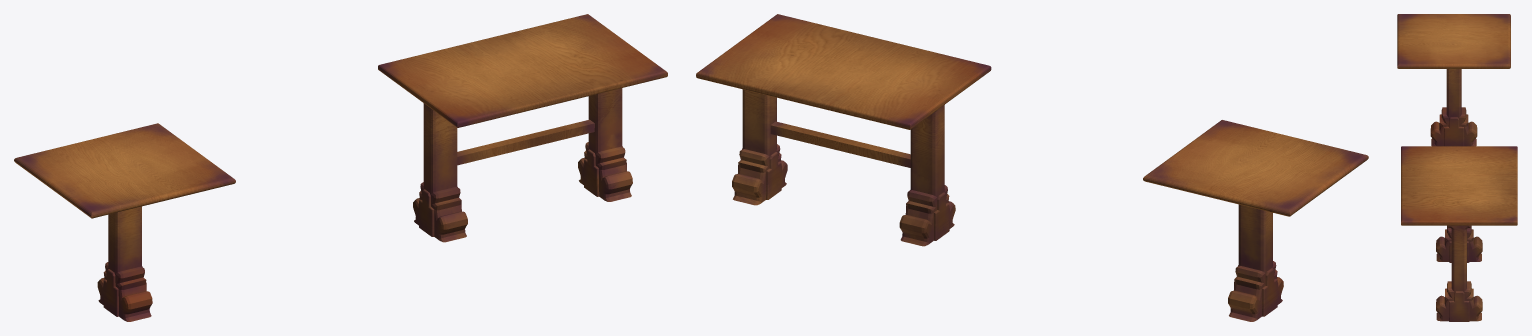
Rendered from ENV_Mesas.fbx.
3 views of the same model, side by side, from view 1: azimuth 30°, elevation 25°; view 2: azimuth 150°, elevation 25°; view 3: azimuth 270°, elevation 25° (orthographic). The views are drawn at different scales.
Visible parts, largest first — view 1: m_MesaLarga, m_MesaCorta; view 2: m_MesaLarga, m_MesaCorta; view 3: m_MesaLarga, m_MesaCorta.
Part boxes in pixels (x1=…): m_MesaLarga: x1=378, y1=14, x2=667, y2=242; m_MesaCorta: x1=14, y1=123, x2=235, y2=321; m_MesaLarga: x1=696, y1=14, x2=991, y2=246; m_MesaCorta: x1=1143, y1=120, x2=1368, y2=321; m_MesaLarga: x1=1401, y1=146, x2=1517, y2=321; m_MesaCorta: x1=1397, y1=14, x2=1510, y2=146.
Bounding box in the file's own units: 992 × 231 × 243.
Materials: 1 (1 with a texture image).
